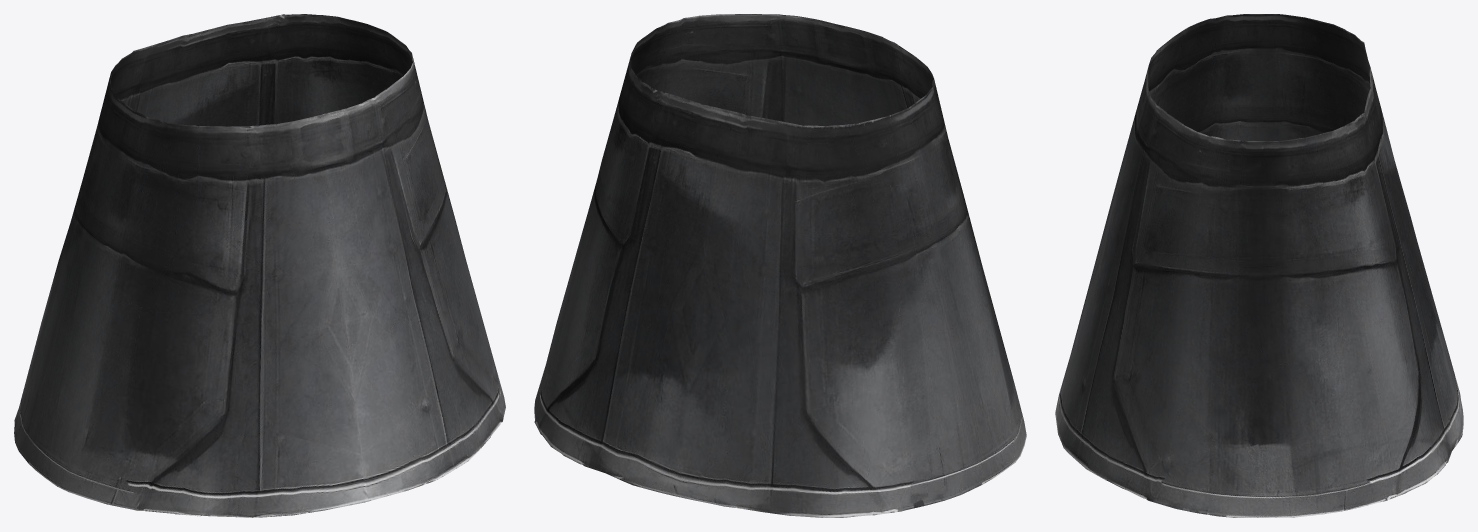
The model's file is SteelPlateskirt.glb.
The picture shows the model from 3 angles, left to right: view 1: azimuth 30°, elevation 25°; view 2: azimuth 150°, elevation 25°; view 3: azimuth 270°, elevation 25°; orthographic projection. The views are drawn at different scales.
Parts seen in each view (by area): view 1: Mesh_0.004; view 2: Mesh_0.004; view 3: Mesh_0.004.
Boxes of the visible parts, x1,y1,x2,y2 form: Mesh_0.004: (14,14,505,517); Mesh_0.004: (534,14,1026,517); Mesh_0.004: (1055,14,1463,517).
Bounding box in the file's own units: 2 × 1.53 × 1.68.
1 material, 1 textured.
